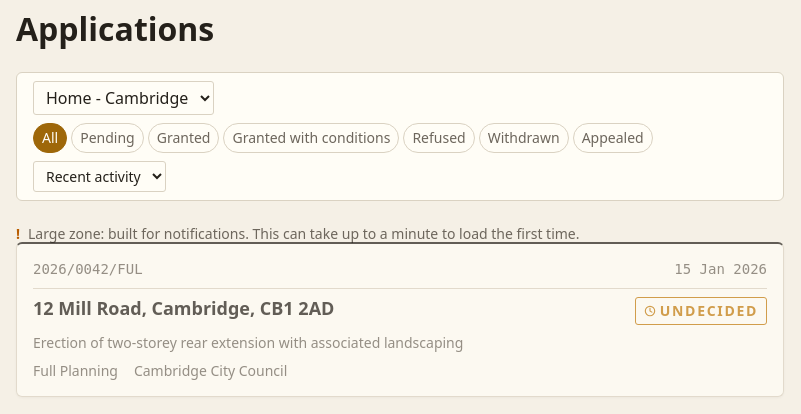
Test: ApplicationsPage — large-zone notice › follows the selected zone
expect the text "2026/0042/FUL" is shown: met, box x1=33 y1=260 x2=143 y2=280
expect the text "Large zone: built for notifications. This can take up to a minute to load the first time." is shown: met, box x1=28 y1=224 x2=580 y2=243
Select "Office - Oxford" in the dropdown named "Zone" at (124, 98), box x1=33 y1=81 x2=214 y2=115
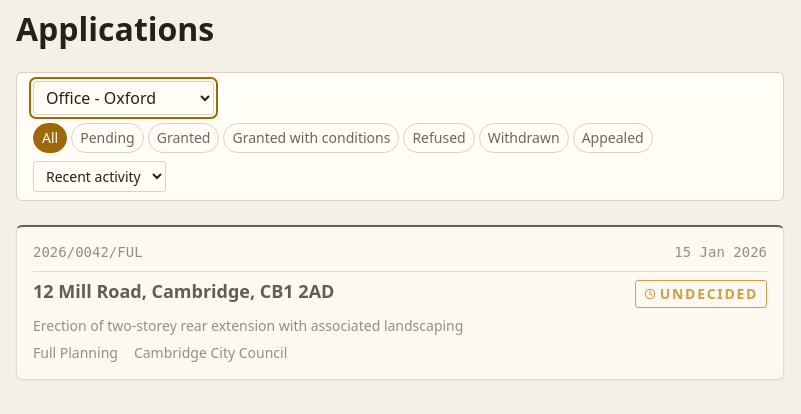
expect the text "Large zone: built for notifications. This can take up to a minute to load the first time." is gone: met
